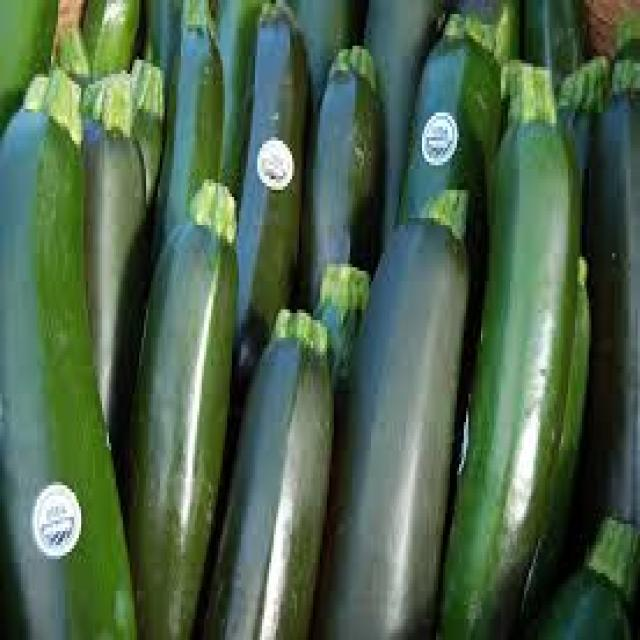Zucchini: (473, 70, 563, 640)
